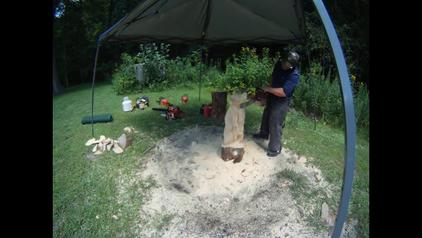down: (152, 99, 189, 116)
stay: (255, 46, 303, 154)
